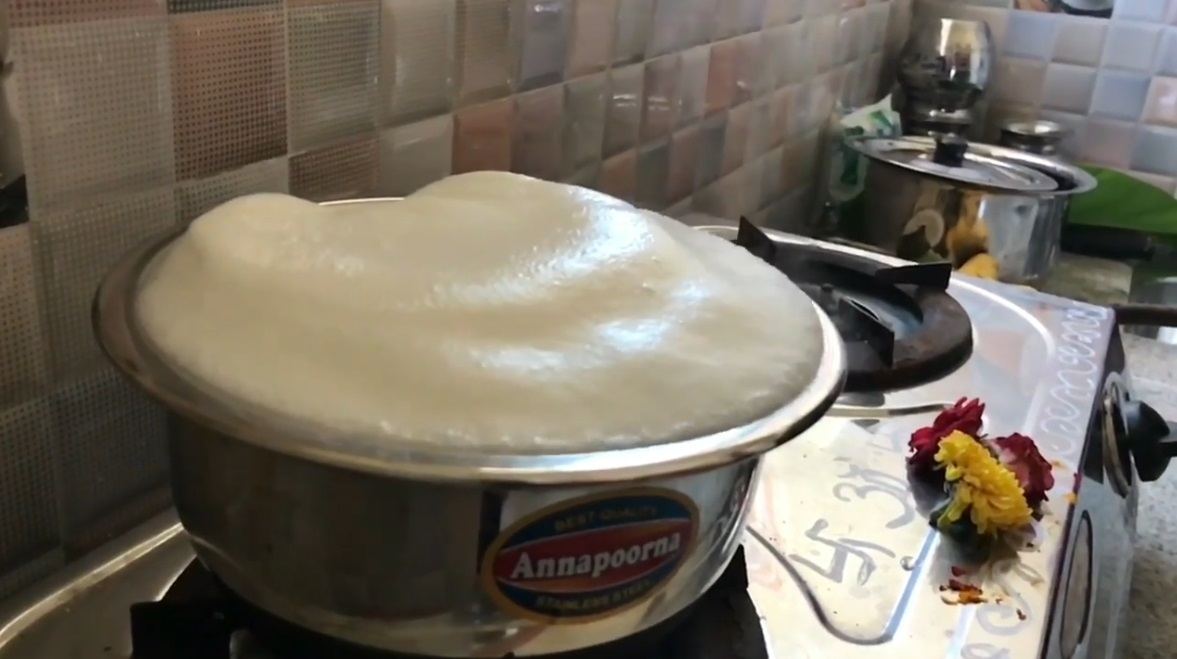Boiled: (103, 159, 818, 644)
